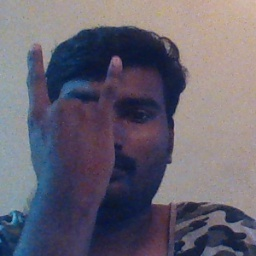V: (20, 39, 129, 201)
